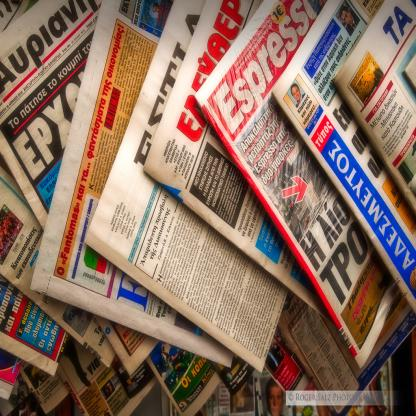book: (190, 0, 396, 364), (143, 0, 341, 334), (268, 0, 416, 319), (330, 0, 416, 216), (287, 288, 416, 416), (263, 324, 313, 405)
